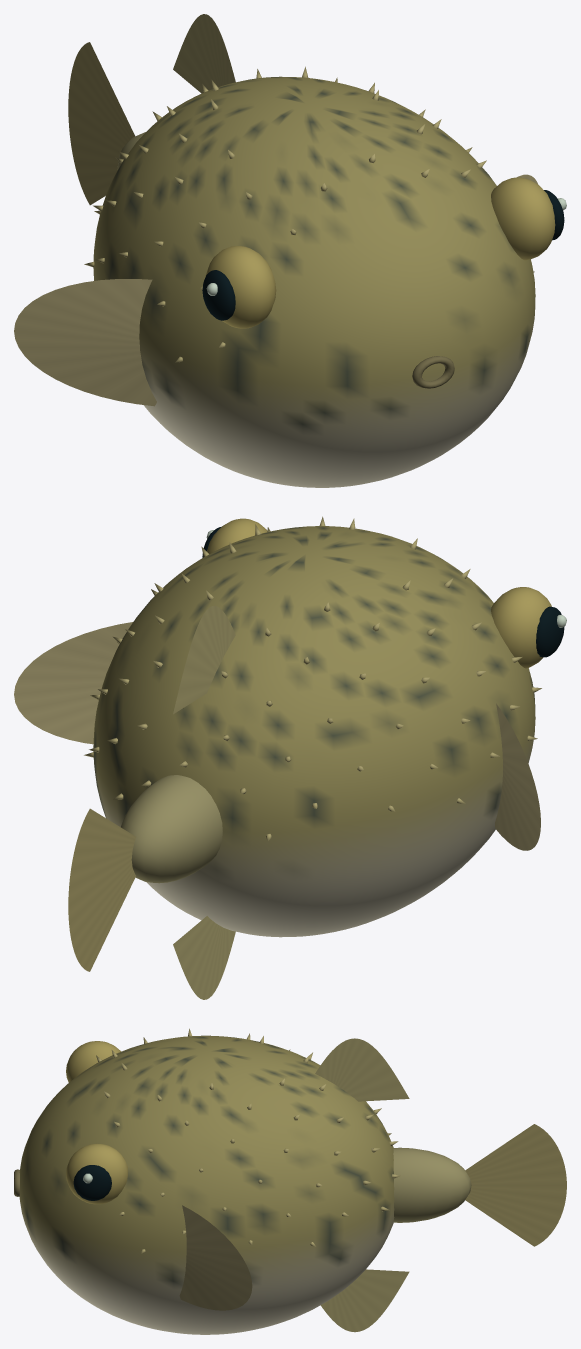
File: puffer.glb
3 views of the same model, one above another, from view 1: azimuth 30°, elevation 25°; view 2: azimuth 150°, elevation 25°; view 3: azimuth 270°, elevation 25° (orthographic). The views are drawn at different scales.
Parts seen in each view (by area): view 1: Ocean Slice puffer; view 2: Ocean Slice puffer; view 3: Ocean Slice puffer.
Boxes of the visible parts, box(x1,y1,x2,y2) form: Ocean Slice puffer: box(14, 14, 566, 487); Ocean Slice puffer: box(14, 516, 566, 999); Ocean Slice puffer: box(14, 1028, 566, 1334).
Bounding box in the file's own units: 0.96 × 0.68 × 1.16.
